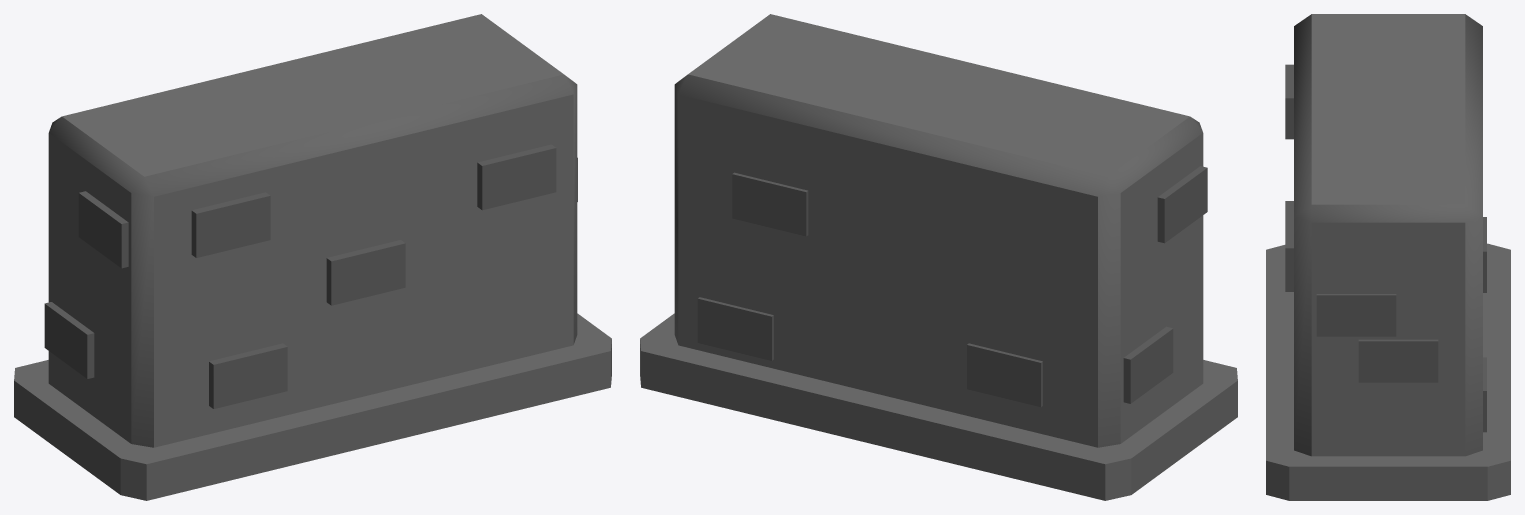
File: ChimneyWall_2_A.fbx
The picture shows the model from 3 angles, left to right: view 1: azimuth 30°, elevation 25°; view 2: azimuth 150°, elevation 25°; view 3: azimuth 270°, elevation 25°; orthographic projection. The views are drawn at different scales.
Parts seen in each view (by area): view 1: ChimneyWall_2_A; view 2: ChimneyWall_2_A; view 3: ChimneyWall_2_A.
Boxes of the visible parts, x1=… form: ChimneyWall_2_A: x1=14, y1=14, x2=611, y2=500; ChimneyWall_2_A: x1=640, y1=14, x2=1237, y2=500; ChimneyWall_2_A: x1=1266, y1=14, x2=1510, y2=500.
Size of the model in its own units: 244 by 143 by 113.
